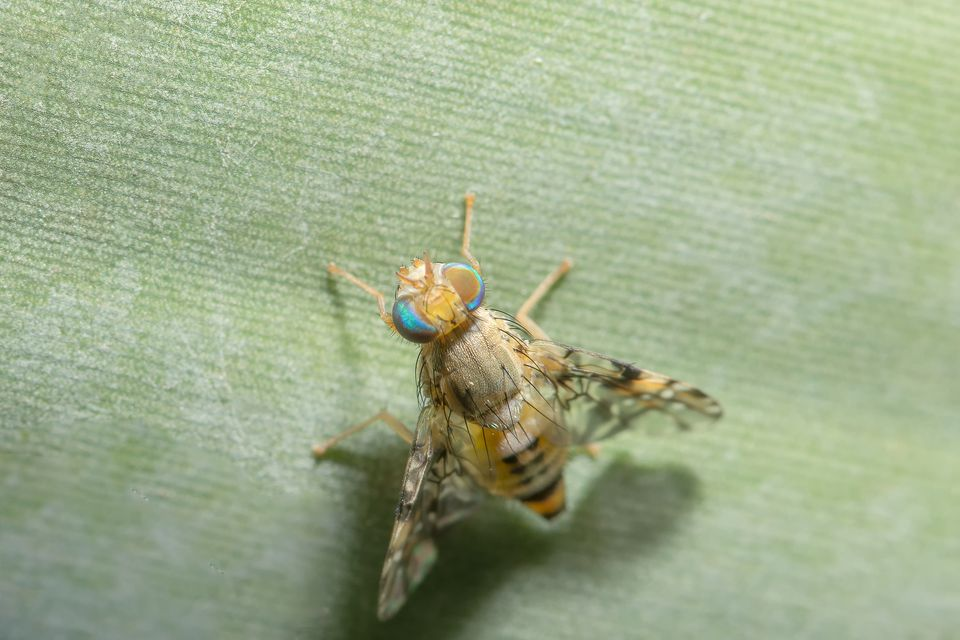phorid fly: (258, 190, 762, 637)
